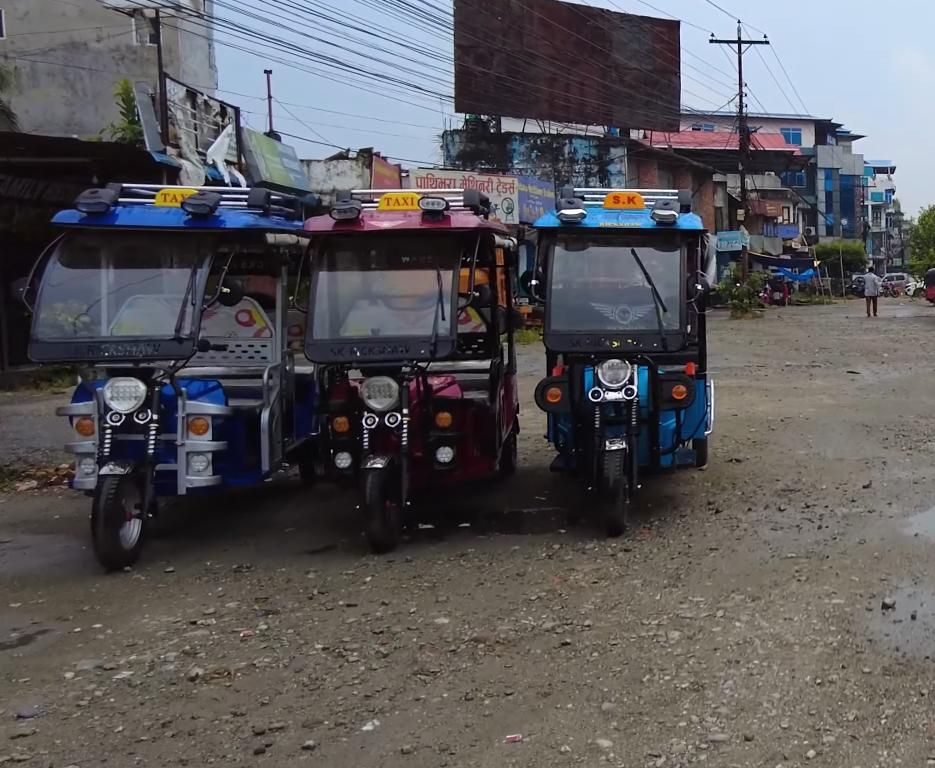e-rickshaw: (33, 170, 314, 580), (300, 181, 541, 560), (532, 169, 716, 527)
